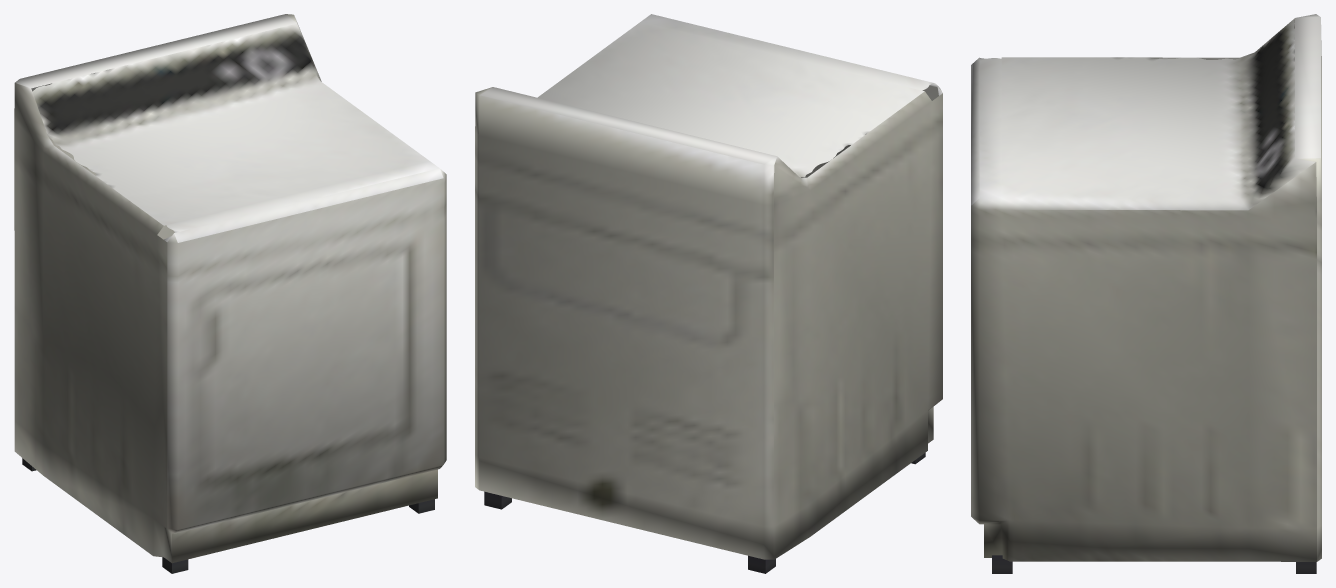
Rendered from W_Dryer.fbx.
The picture shows the model from 3 angles, left to right: view 1: azimuth 30°, elevation 25°; view 2: azimuth 150°, elevation 25°; view 3: azimuth 270°, elevation 25°; orthographic projection. The views are drawn at different scales.
Parts seen in each view (by area): view 1: Deyer; view 2: Deyer; view 3: Deyer.
Boxes of the visible parts, x1,y1,x2,y2 form: Deyer: (14, 14, 446, 573); Deyer: (475, 14, 942, 573); Deyer: (971, 14, 1321, 573).
Size of the model in its own units: 0.5306 by 0.6913 by 0.5269.
